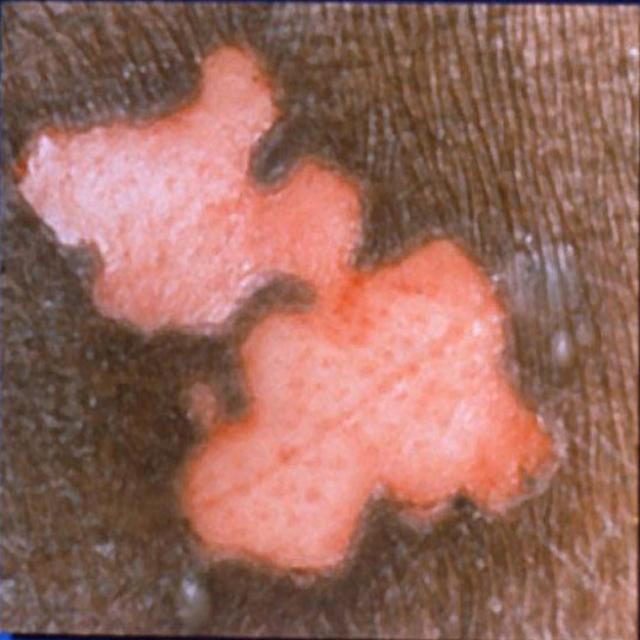stage-2: (20, 47, 551, 570)
